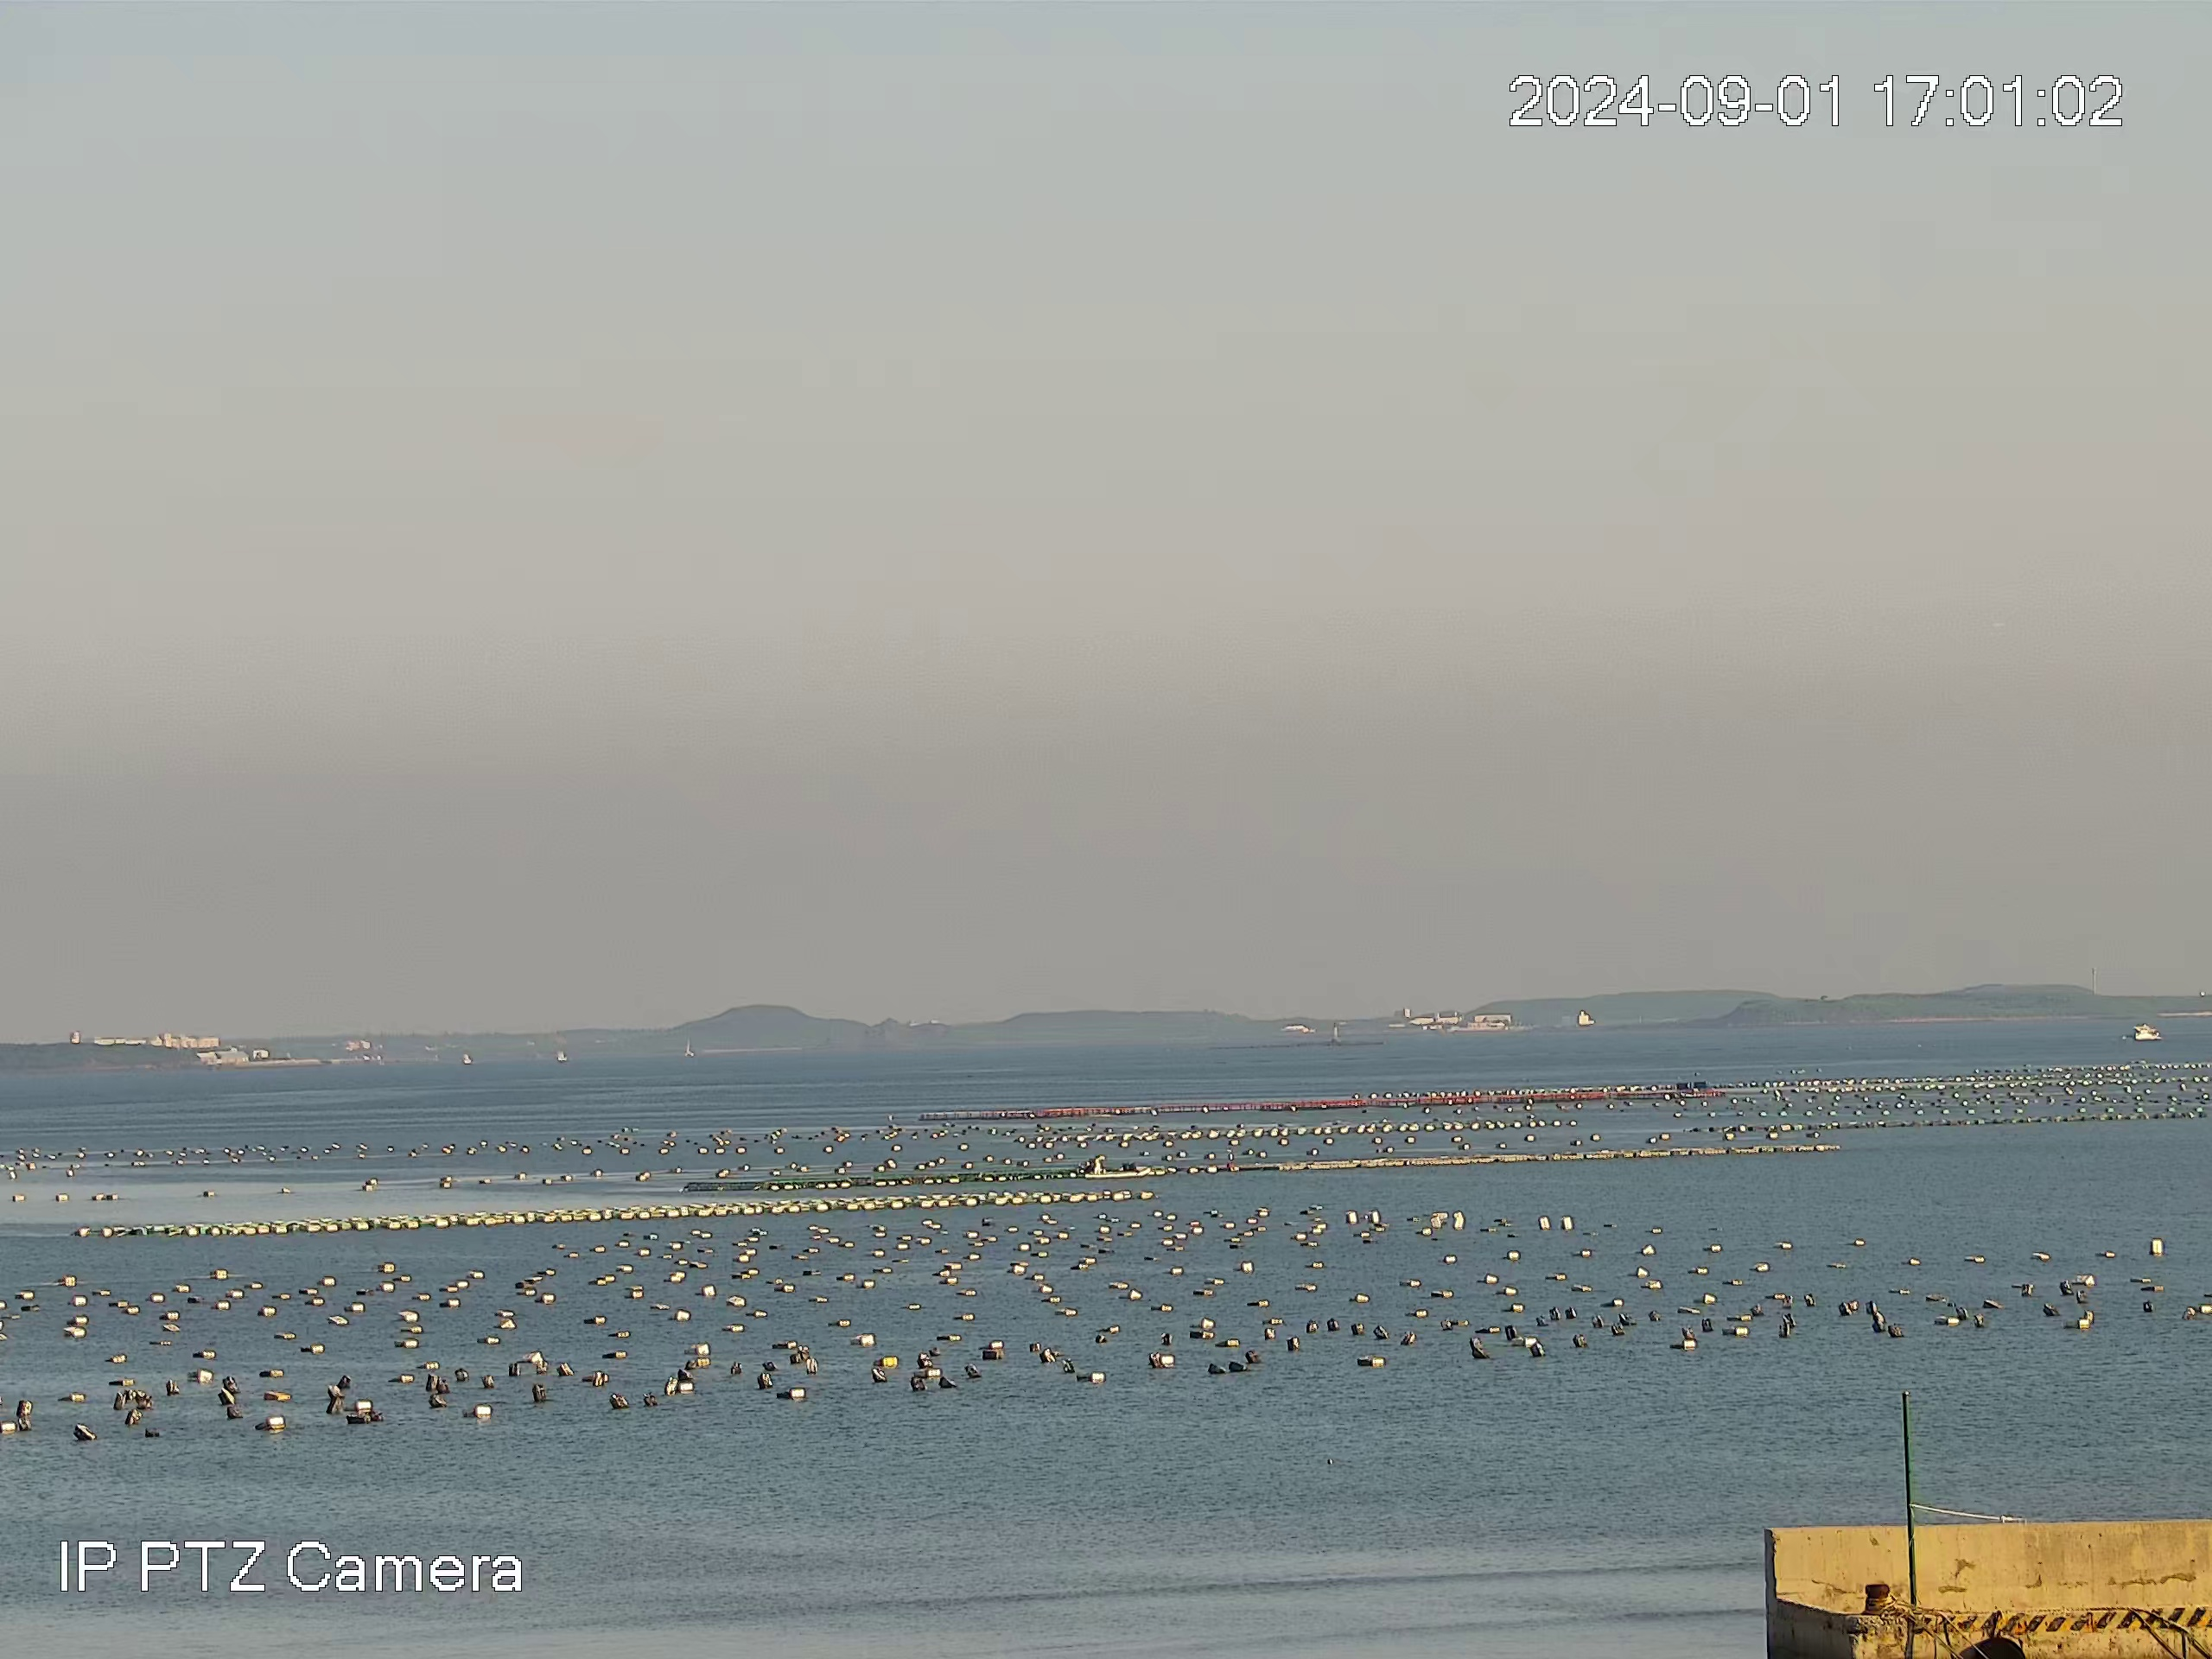boat: (1090, 1152, 1155, 1183), (2135, 1023, 2163, 1042)
